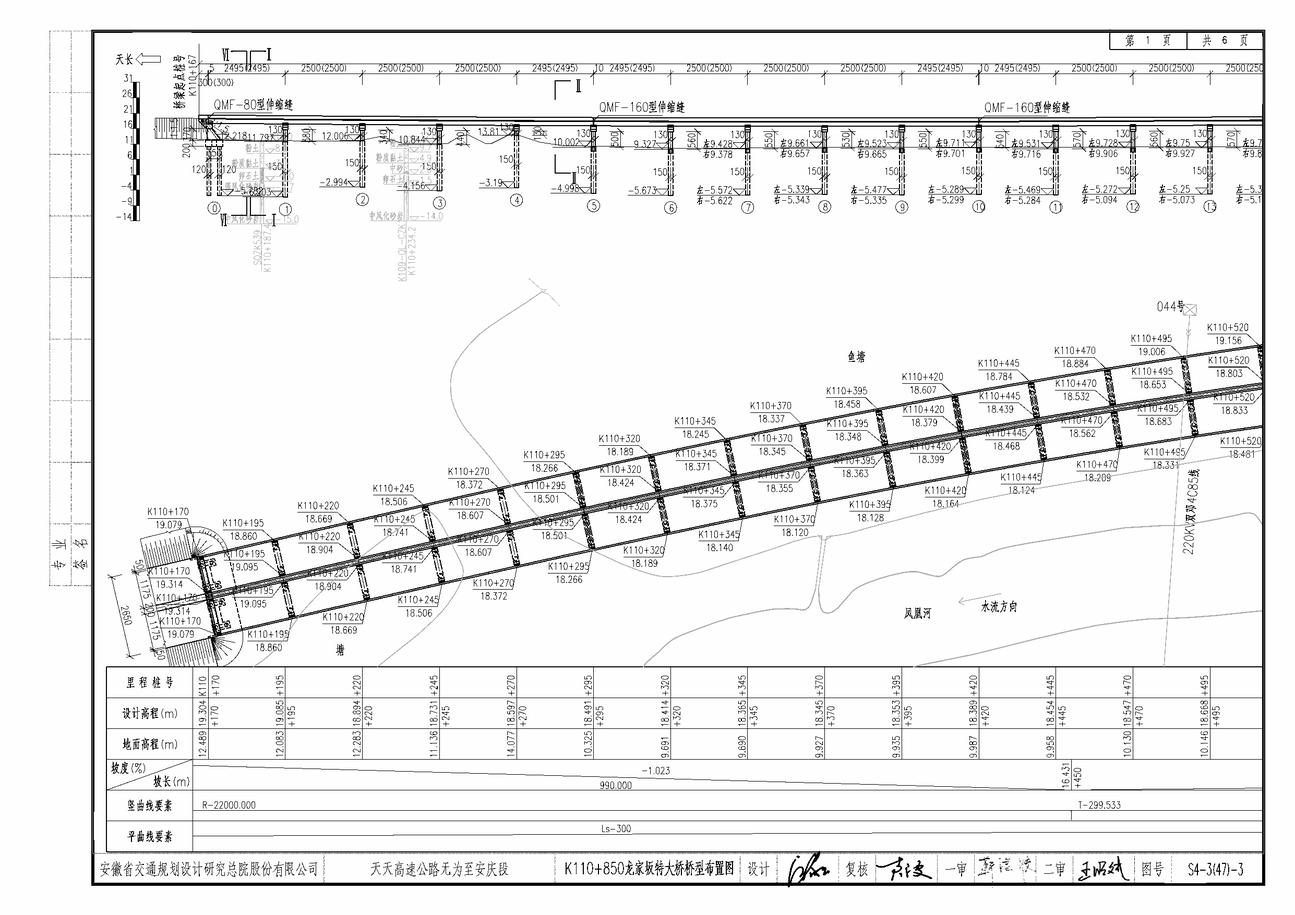A: (110, 39, 1270, 245)
